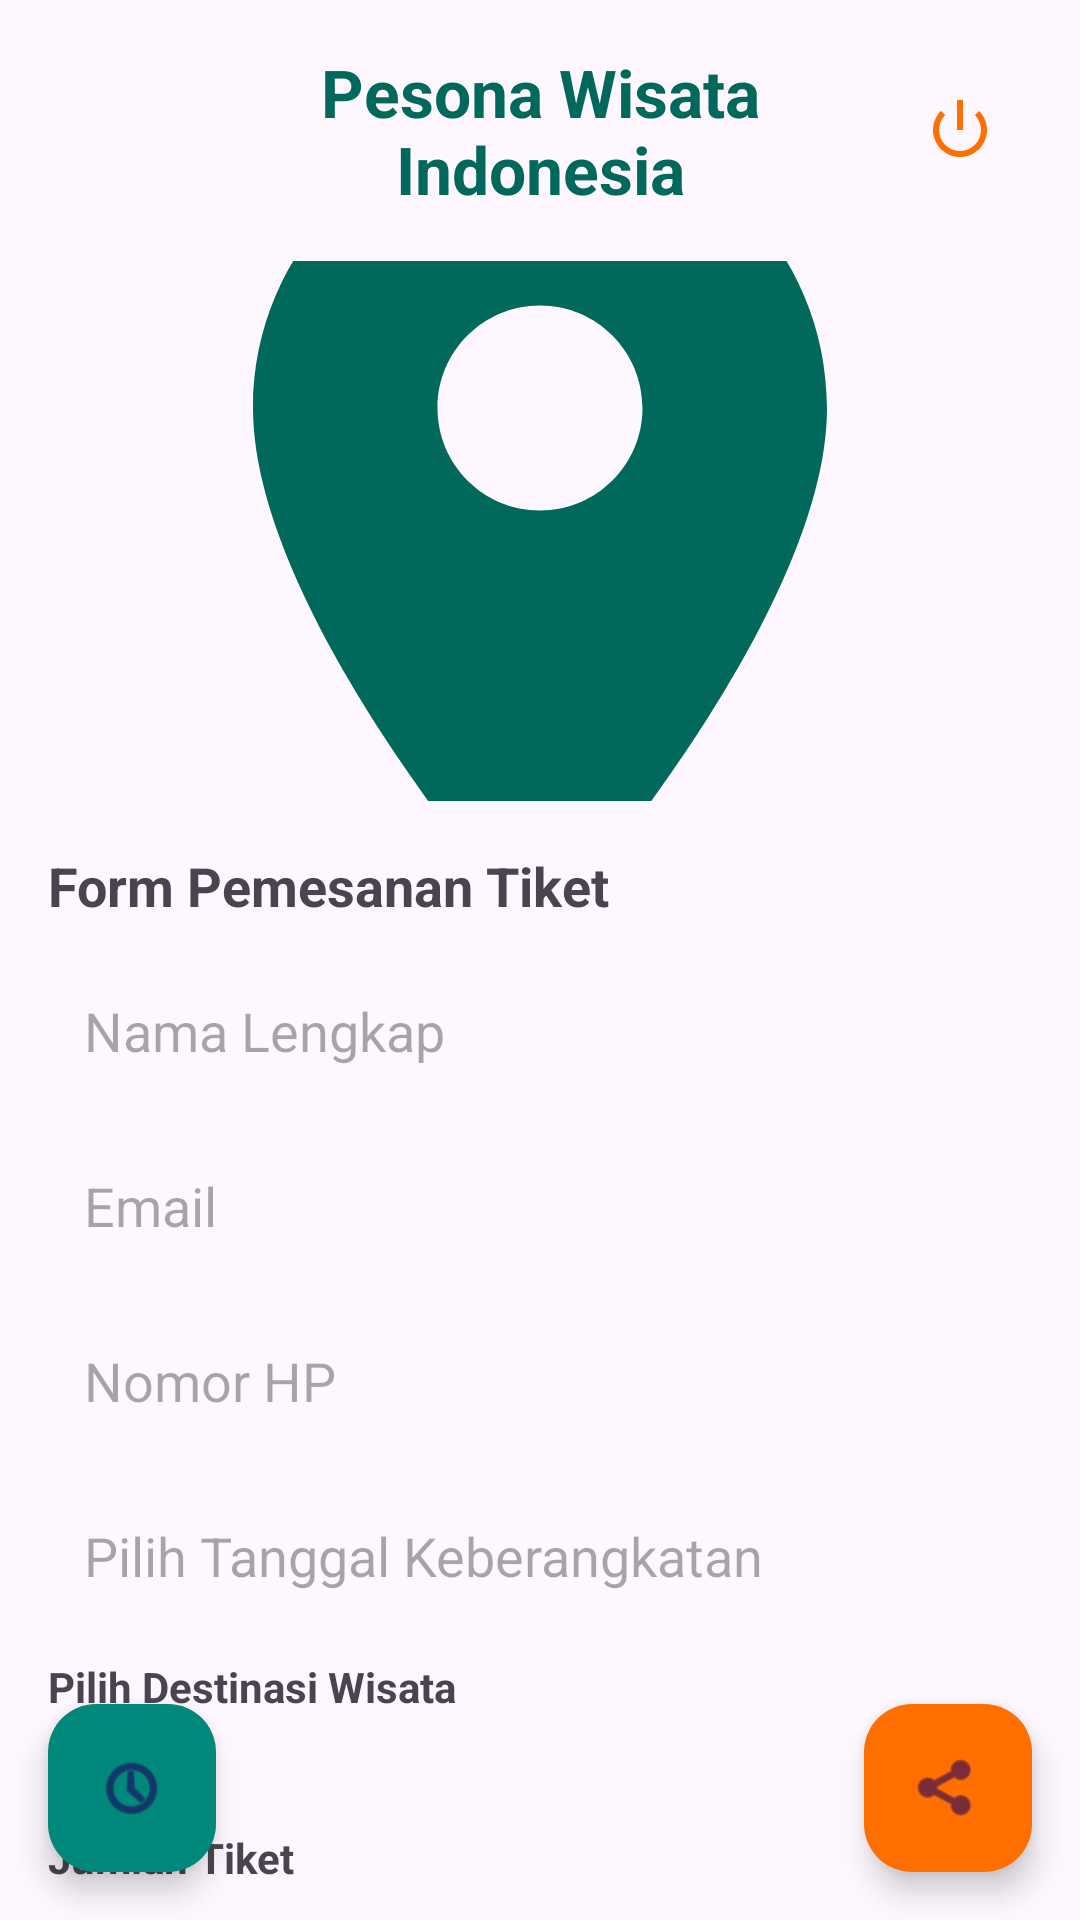

Where to tap for icons on this 1080 x 1920 app screen, as point (x, y):
History: point (132, 1788)
Share: point (948, 1788)
